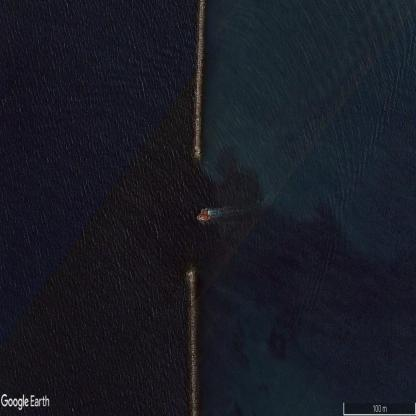ship: (196, 213, 210, 221)
